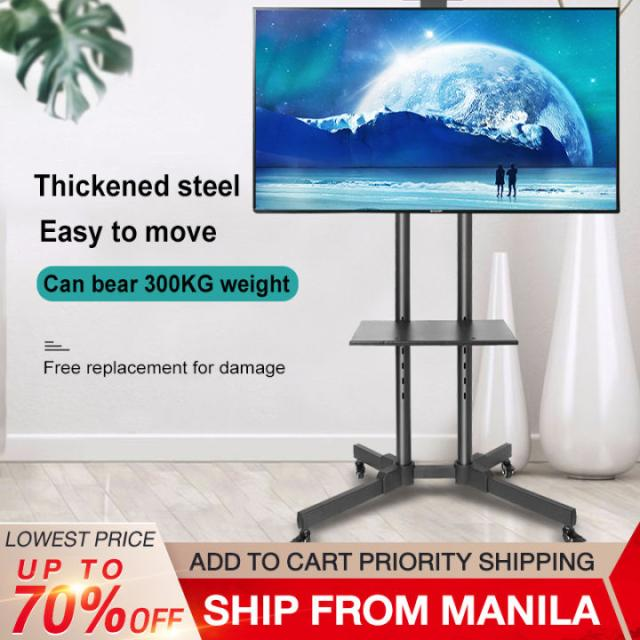electronics: (254, 10, 617, 540), (292, 212, 584, 540), (254, 9, 618, 210), (204, 588, 600, 628), (354, 549, 594, 572), (35, 172, 238, 196), (4, 526, 156, 548), (34, 172, 169, 196), (204, 595, 299, 627), (358, 549, 472, 572), (476, 550, 595, 572), (83, 360, 188, 378), (42, 273, 140, 292), (220, 273, 292, 298), (40, 219, 103, 247), (41, 220, 102, 247), (286, 550, 353, 573), (143, 223, 216, 243), (145, 223, 217, 243), (179, 173, 238, 196), (219, 360, 284, 378), (188, 552, 241, 572), (93, 531, 156, 547), (105, 220, 137, 242), (44, 360, 81, 374), (102, 561, 121, 579), (111, 225, 130, 241), (44, 561, 59, 580), (105, 561, 117, 579), (81, 560, 92, 566), (82, 560, 92, 565), (21, 574, 32, 578), (308, 554, 312, 556), (424, 588, 426, 590), (167, 612, 171, 613), (54, 371, 57, 372), (468, 566, 470, 567), (130, 233, 130, 235)
